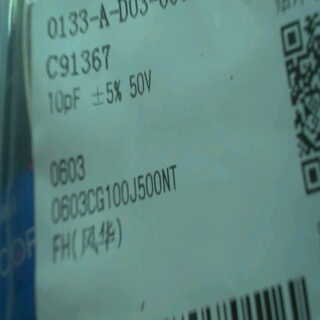10pF: (45, 80, 90, 118)
